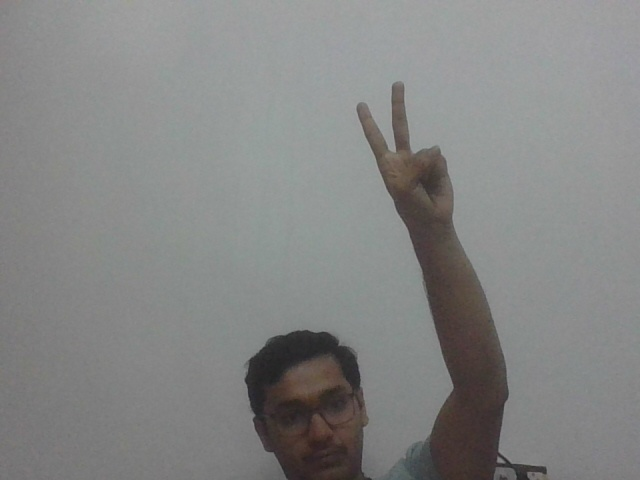V: (357, 77, 466, 227)
